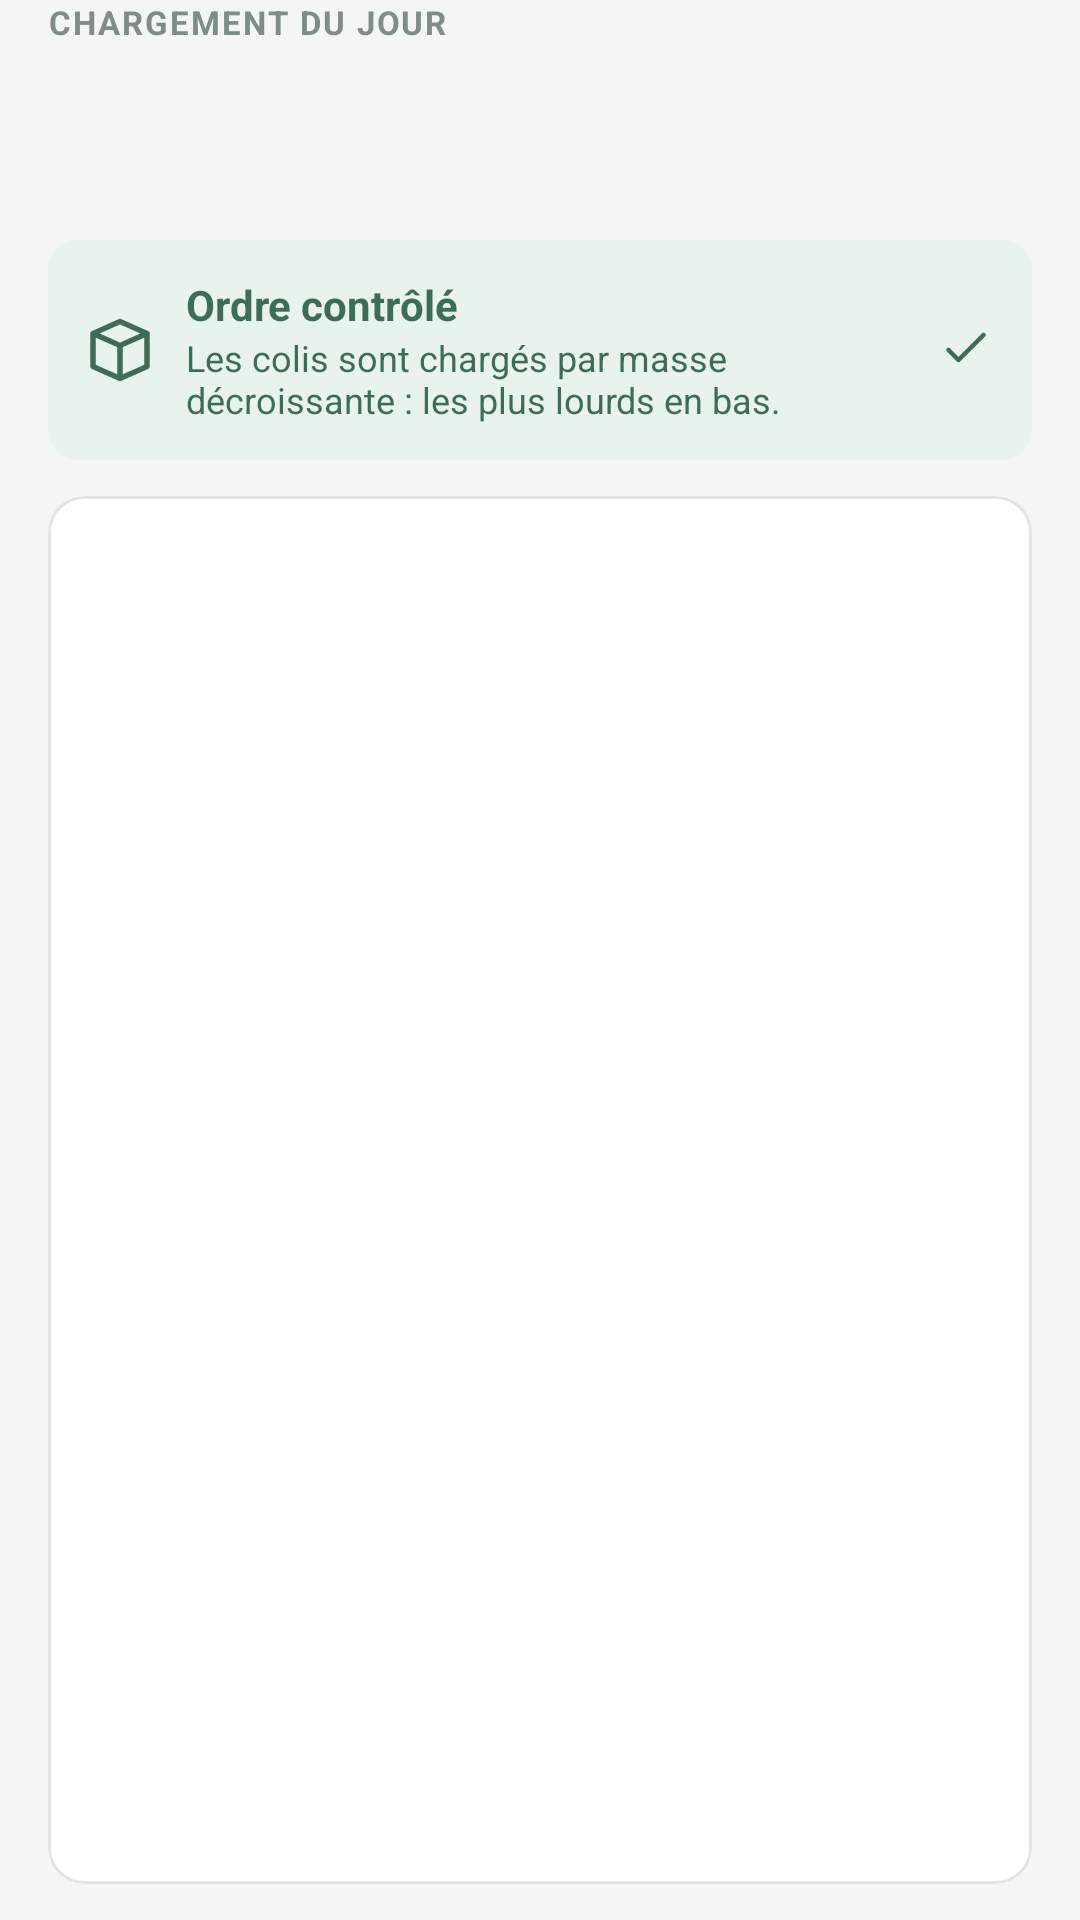

Icon bounding boxes for this 1080px×1920px phone screenshot, format (x1=x1, y1=y1, x2=x2, y2=y2):
boite: (x1=90, y1=318, x2=150, y2=381)
coche: (x1=946, y1=332, x2=986, y2=363)
